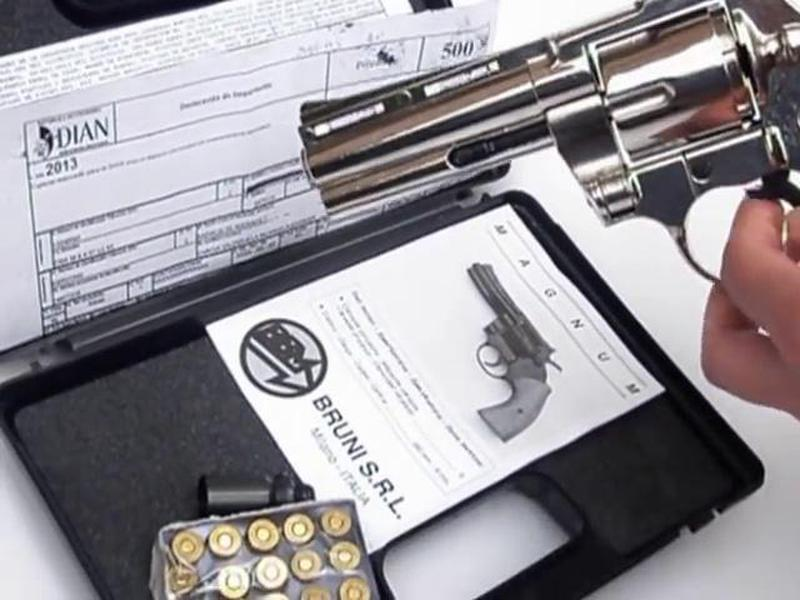Revolver: (290, 3, 800, 271)
